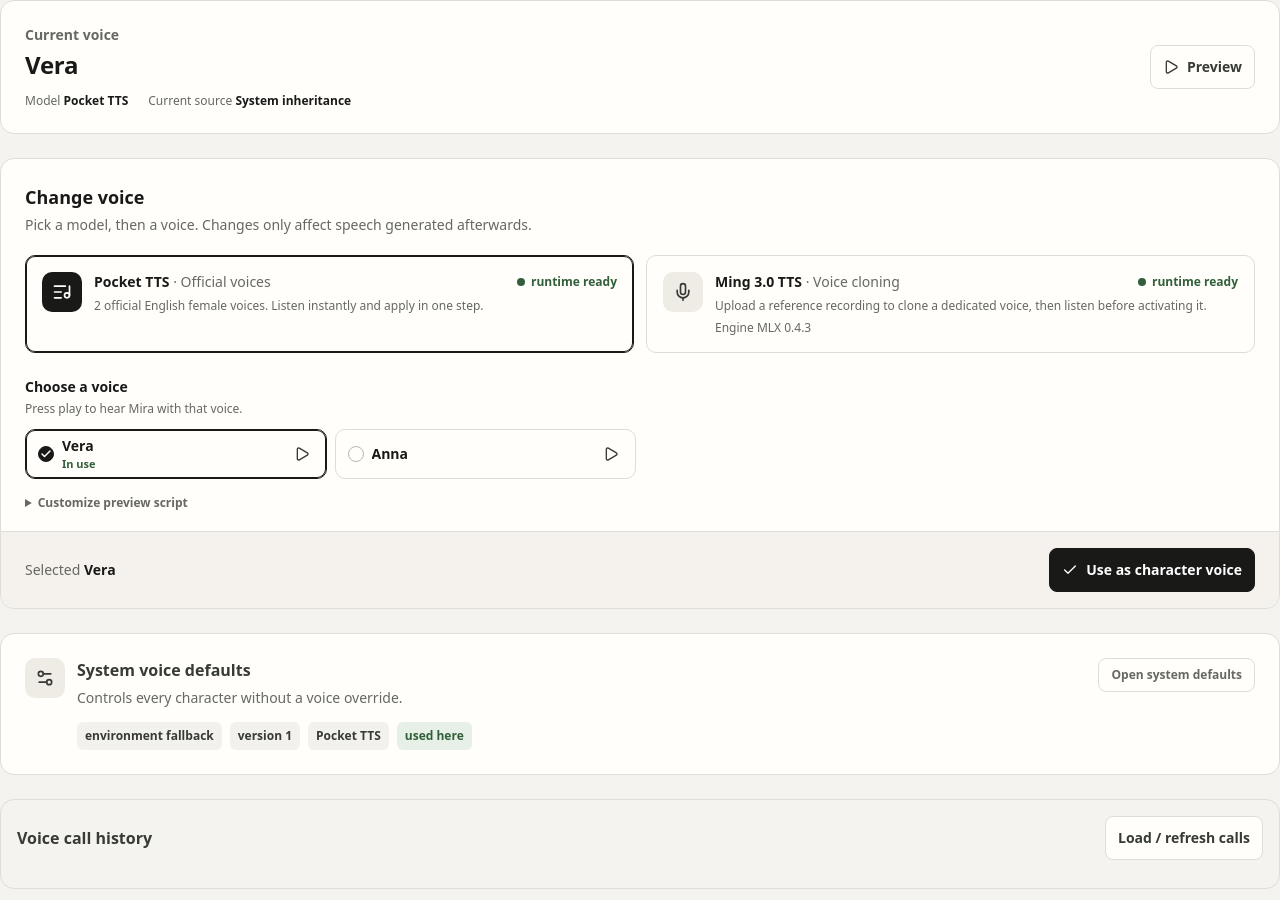
Test: CharacterVoicePanel voice identity controls › auditions a catalog voice with the preview script and selects it
The image size is (1280, 900).
Click the button named "Preview Anna". click: [611, 454]
box: [591,434,631,474]
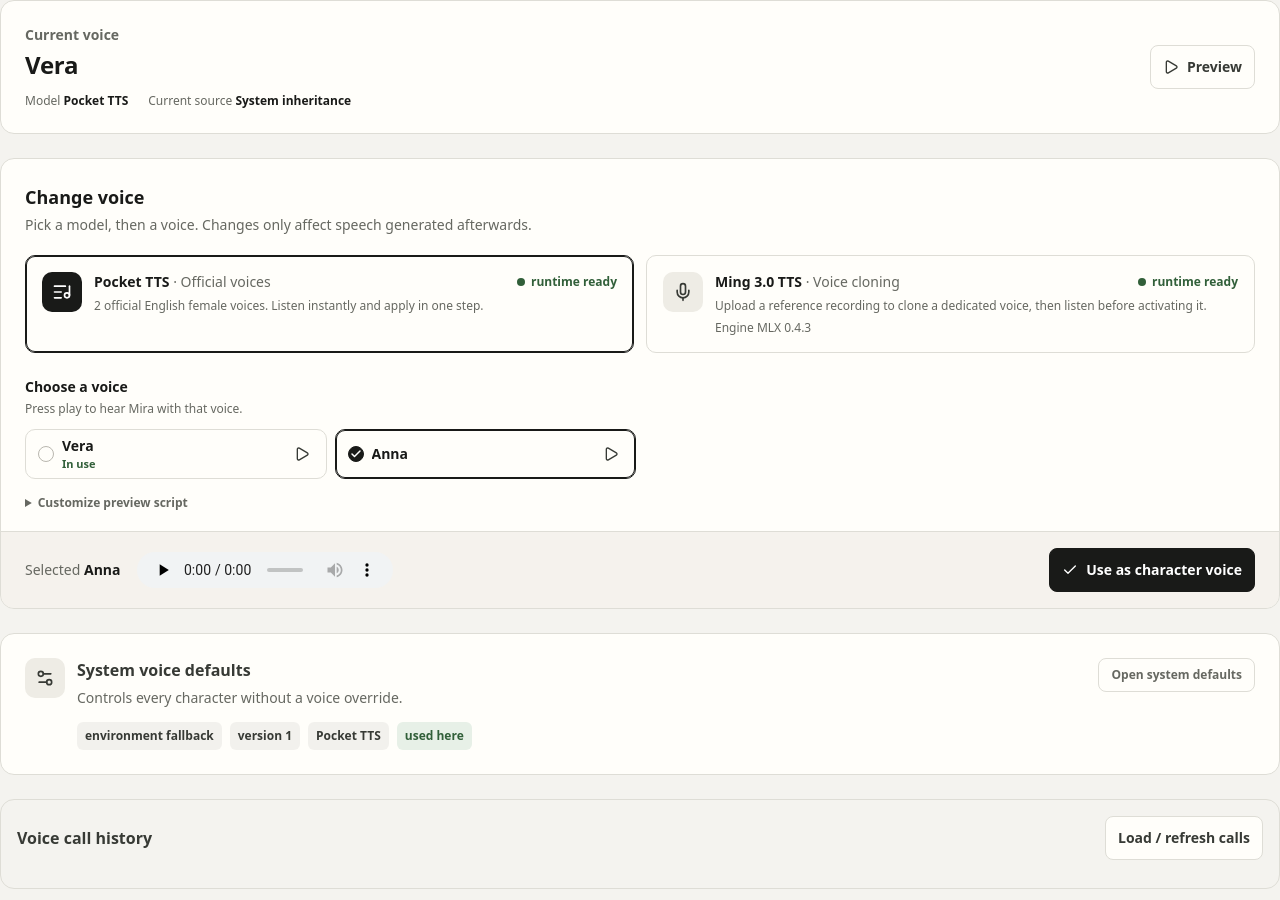
Now the radio button with id "character-official-voice-anna" is checked, box [348,444,408,463]
